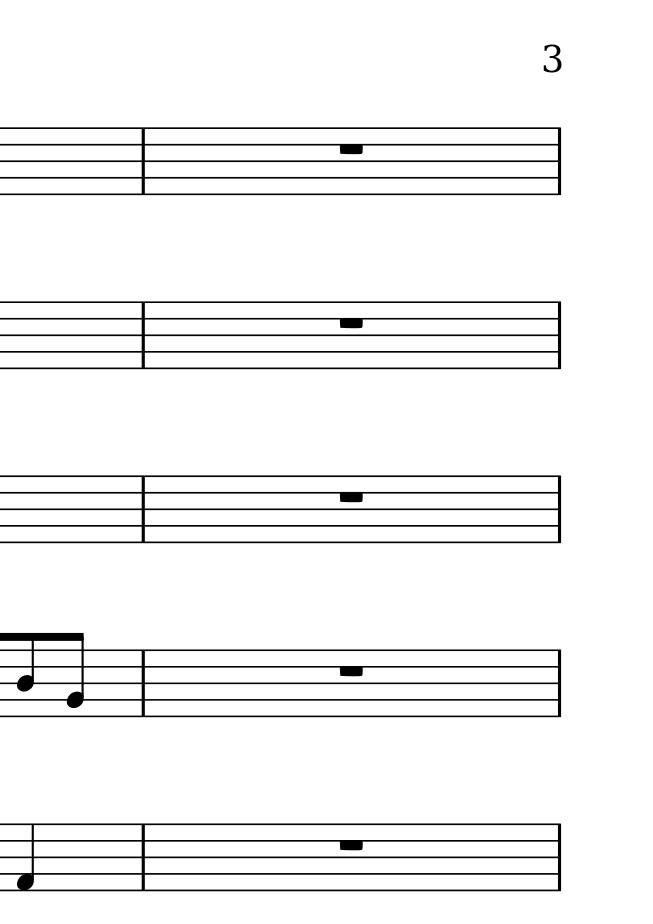3: (545, 40, 562, 76)
8_1: (15, 818, 37, 894)
8_2: (65, 630, 87, 719)
8_4: (16, 631, 38, 718)
Rests1: (334, 486, 369, 506), (332, 140, 367, 159), (334, 315, 369, 334), (337, 835, 367, 855), (336, 660, 365, 680)
Single_barline: (128, 301, 156, 369), (129, 129, 157, 194), (129, 648, 155, 718), (545, 127, 569, 197), (546, 823, 571, 890), (546, 474, 570, 543), (132, 823, 155, 892), (547, 648, 570, 717), (549, 301, 570, 370), (133, 474, 153, 545)
